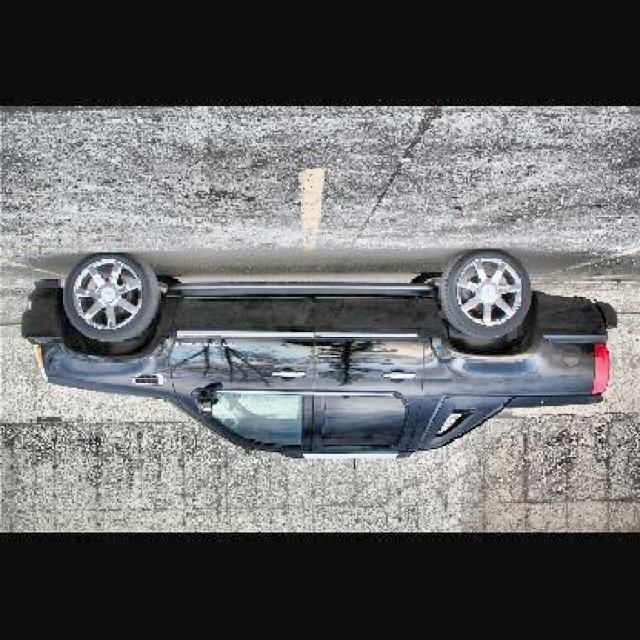black: (17, 267, 640, 456)
